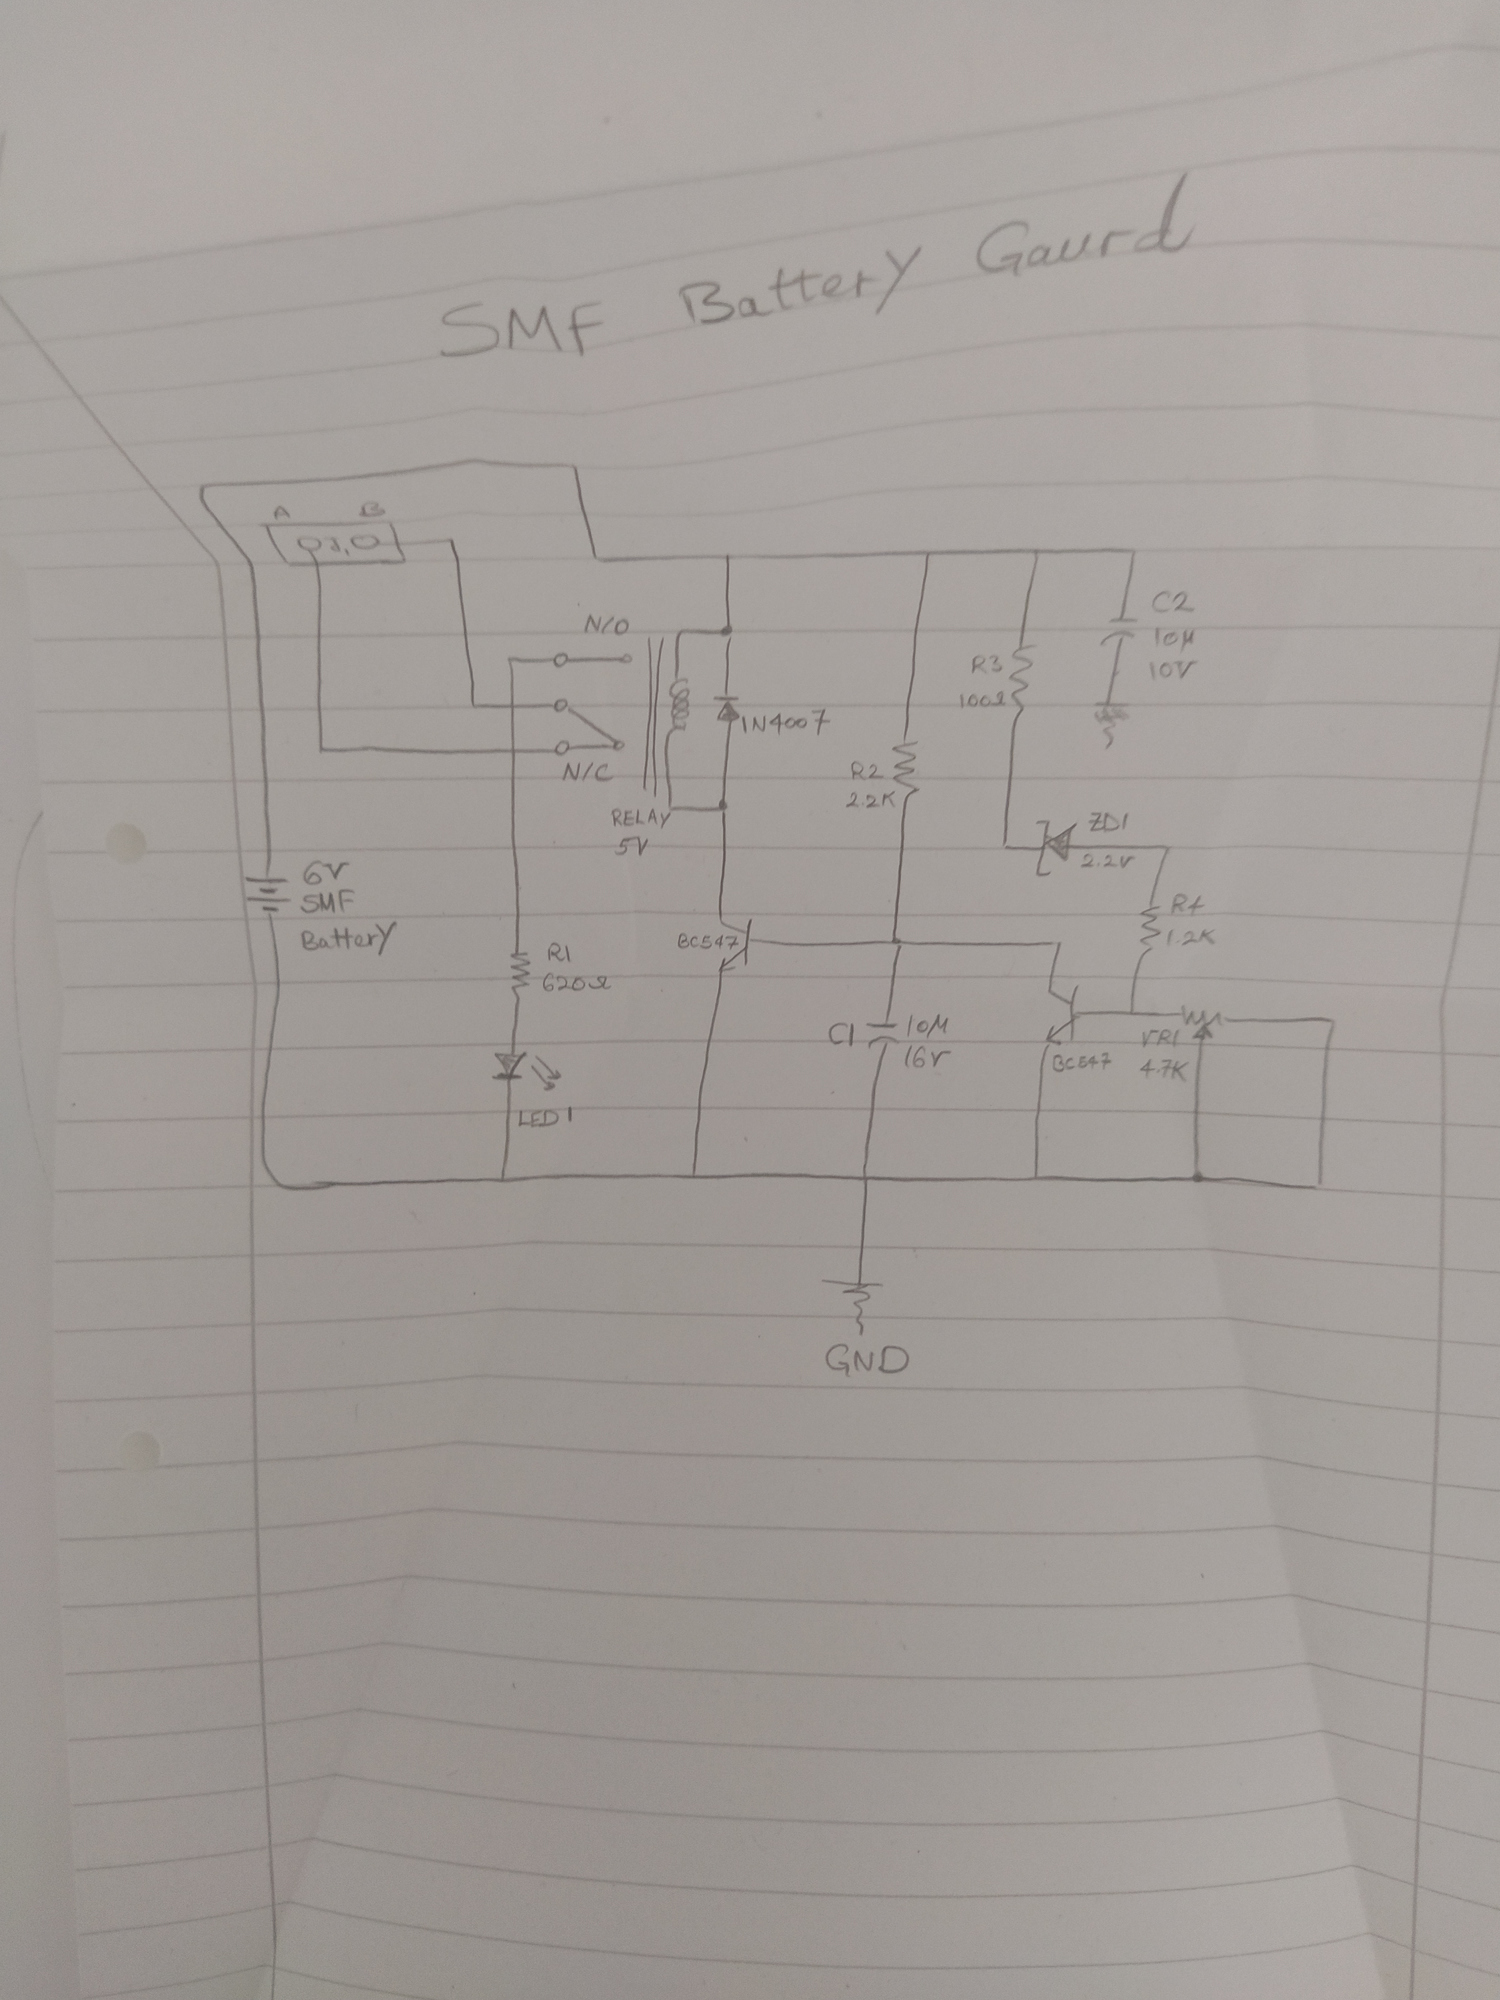capacitor.unpolarized: (1097, 613, 1142, 647), (860, 1020, 903, 1050)
crossover: (506, 742, 525, 757), (503, 698, 518, 713)
diode: (1032, 817, 1079, 879), (711, 691, 742, 723)
diode.light_emitting: (487, 1044, 566, 1090)
gnd: (826, 1279, 882, 1328), (1090, 699, 1136, 753)
junction: (260, 1165, 288, 1195), (192, 476, 217, 502), (711, 795, 733, 816), (312, 740, 332, 761), (856, 1169, 878, 1186), (1186, 1169, 1205, 1187), (495, 1169, 514, 1187), (1027, 1169, 1046, 1187), (564, 457, 583, 474), (1122, 543, 1141, 561), (1027, 543, 1046, 561), (1320, 1013, 1338, 1031), (997, 836, 1015, 854), (465, 694, 482, 712), (887, 932, 904, 950), (441, 532, 459, 550), (586, 550, 605, 565), (718, 624, 737, 639), (919, 545, 936, 561), (720, 548, 737, 564), (685, 1165, 701, 1183), (1309, 1178, 1325, 1195), (1157, 843, 1174, 857), (1049, 935, 1065, 950), (1123, 1000, 1138, 1016), (503, 654, 515, 668)
relay: (551, 627, 693, 816)
resistor: (1005, 638, 1038, 720), (889, 735, 922, 802), (1134, 901, 1163, 954), (503, 950, 534, 995)
resistor.adjustable: (1177, 1002, 1229, 1043)
terminal: (348, 531, 381, 550), (295, 534, 323, 553)
text: (440, 167, 1202, 364), (296, 921, 399, 957), (821, 1340, 912, 1380), (736, 706, 832, 739), (296, 885, 356, 917), (542, 969, 611, 995), (671, 928, 739, 954), (1048, 1049, 1114, 1076), (299, 857, 351, 887), (512, 1106, 574, 1131), (610, 805, 673, 828), (900, 1044, 952, 1072), (578, 611, 630, 639), (1149, 655, 1201, 682), (1152, 586, 1196, 617), (559, 761, 618, 784), (841, 787, 897, 811), (1152, 624, 1197, 652), (1084, 806, 1128, 835), (1136, 1057, 1186, 1080), (1164, 928, 1216, 950), (908, 1013, 950, 1039), (1079, 852, 1134, 872), (955, 688, 1008, 709), (1168, 891, 1205, 920), (1139, 1027, 1183, 1050), (611, 835, 652, 860), (827, 1017, 857, 1049), (849, 759, 886, 783), (971, 652, 1004, 676), (547, 940, 574, 965), (358, 499, 388, 520), (328, 535, 350, 557), (271, 502, 293, 521)
transistor: (703, 912, 755, 975), (1041, 984, 1081, 1055)
voltage.dc: (243, 872, 291, 917)
